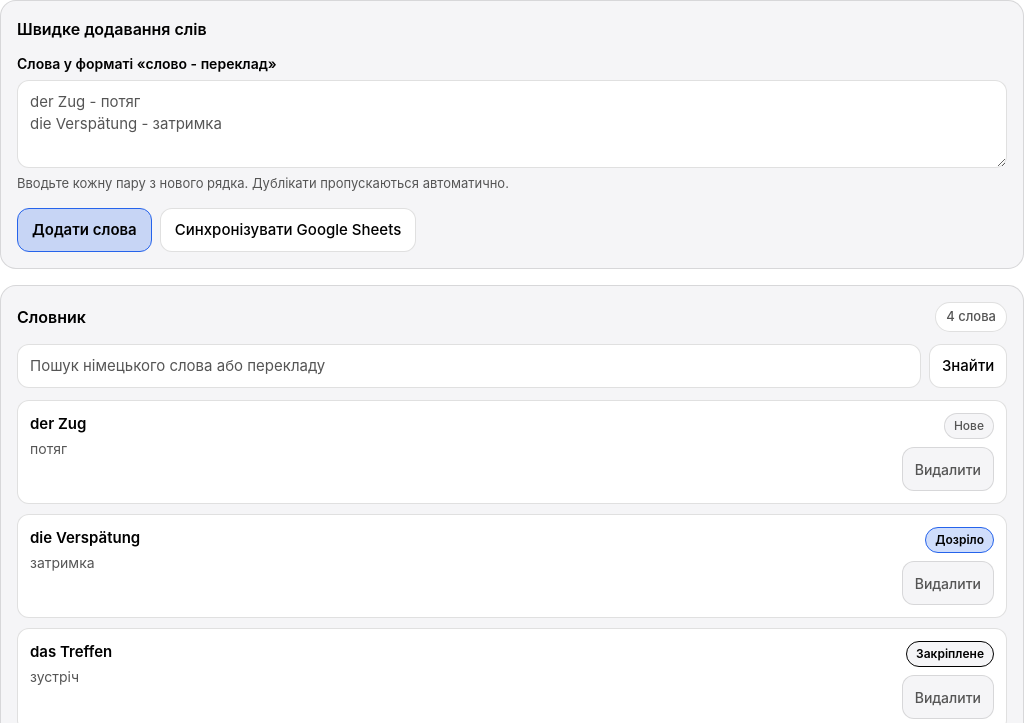
Test: DictionaryPage › handles Google Sheets sync success and 400/422/502/504 errors without corrupting local word list
The image size is (1024, 723).
Expected: the text "der Zug" is shown, top-left (30, 413), bottom-right (86, 436)
# 400 error
Click the button "Синхронізувати Google Sheets".
click(288, 230)  # box top-left (160, 208), bottom-right (416, 252)
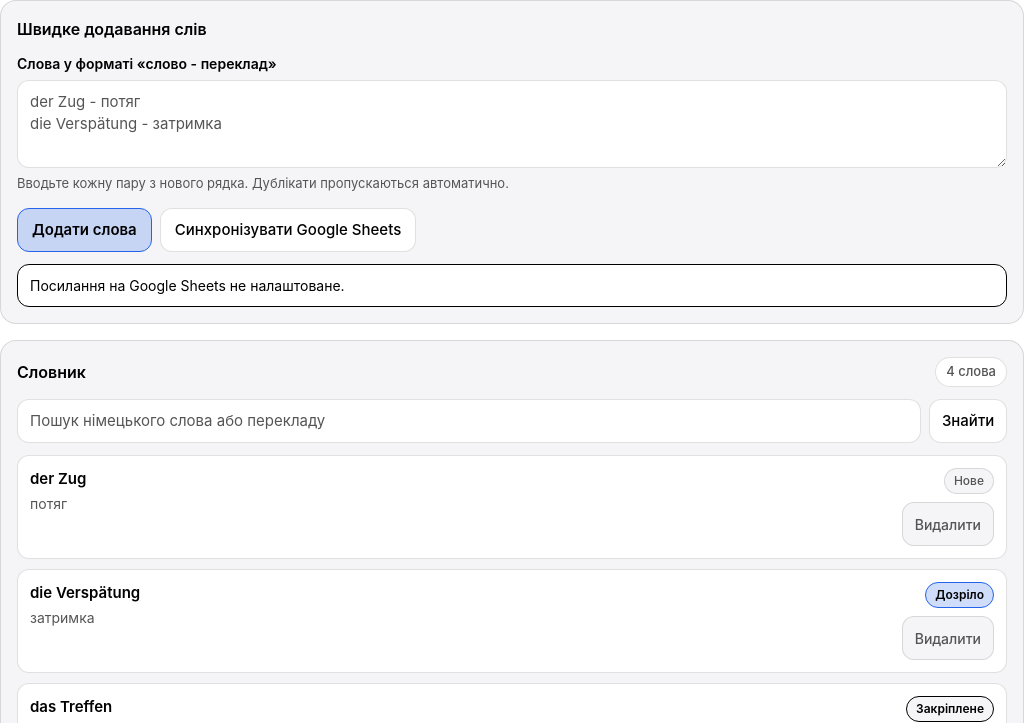
Expected: the text "der Zug" is shown, top-left (30, 468), bottom-right (86, 490)
Expected: the message reads "Посилання на Google Sheets не налаштоване.", top-left (30, 277), bottom-right (345, 294)
# 422 error
Click the button "Синхронізувати Google Sheets".
click(288, 230)  # box top-left (160, 208), bottom-right (416, 252)
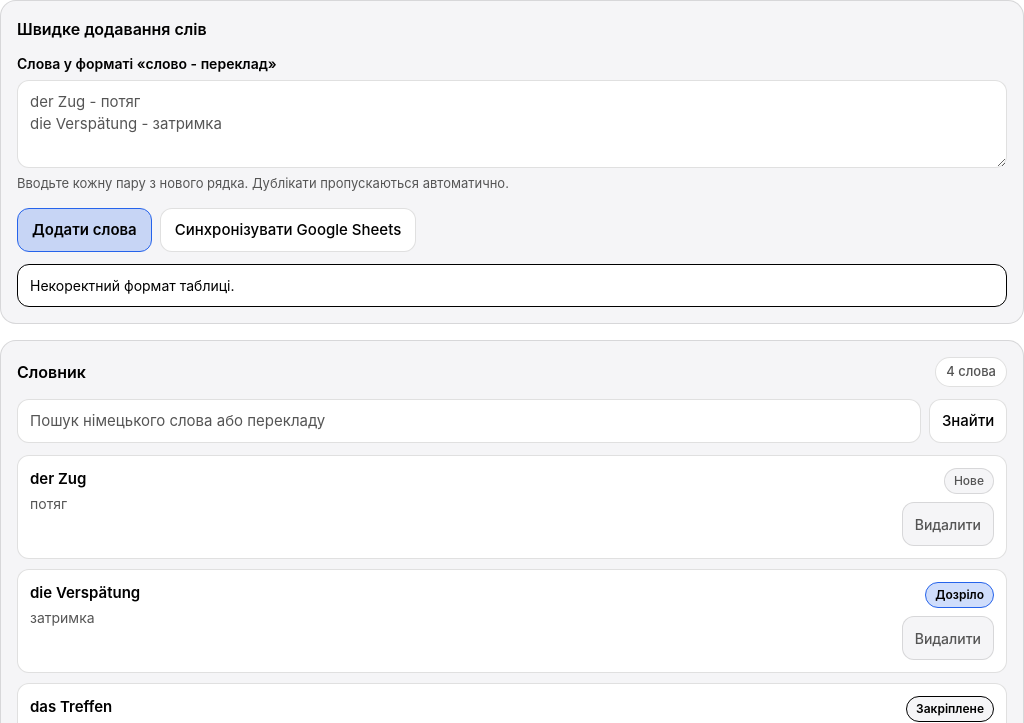
Expected: the text "der Zug" is shown, top-left (30, 468), bottom-right (86, 490)
Expected: the message reads "Некоректний формат таблиці.", top-left (30, 277), bottom-right (234, 294)
# 502 error
Click the button "Синхронізувати Google Sheets".
click(288, 230)  # box top-left (160, 208), bottom-right (416, 252)
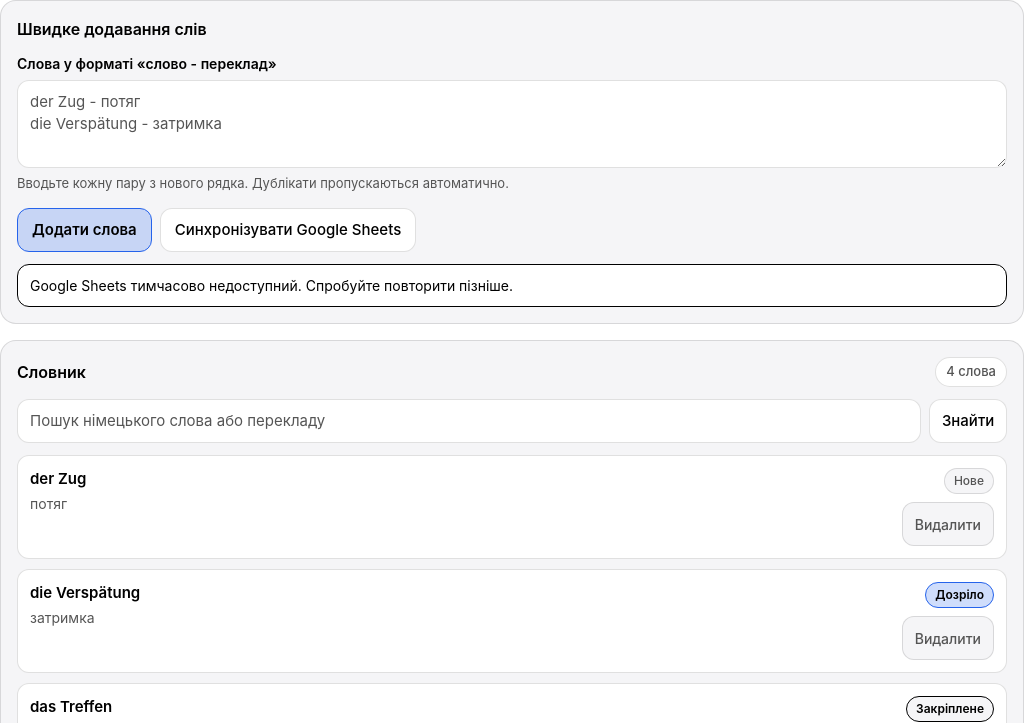
Expected: the text "der Zug" is shown, top-left (30, 468), bottom-right (86, 490)
Expected: the message shows "Google Sheets тимчасово недоступний", top-left (30, 277), bottom-right (513, 294)
# 504 error
Click the button "Синхронізувати Google Sheets".
click(288, 230)  # box top-left (160, 208), bottom-right (416, 252)
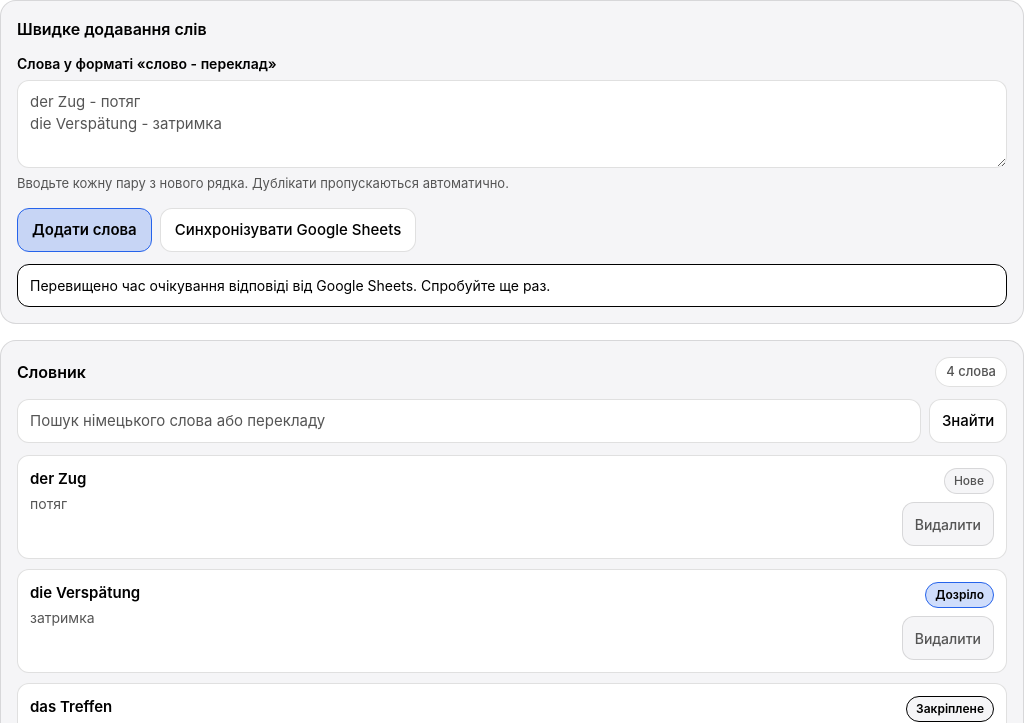
Expected: the text "der Zug" is shown, top-left (30, 468), bottom-right (86, 490)
Expected: the message shows "Перевищено час очікування відповіді від Google Sheets", top-left (30, 277), bottom-right (550, 294)
Click the button "Синхронізувати Google Sheets".
click(288, 230)  # box top-left (160, 208), bottom-right (416, 252)
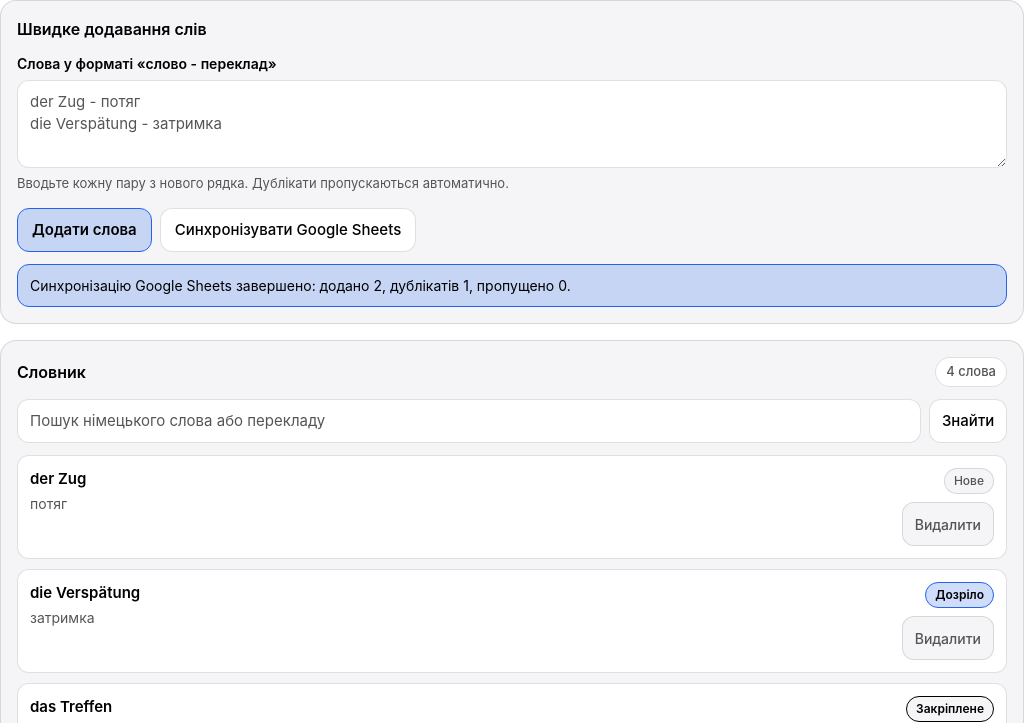
Expected: the text "Синхронізацію Google Sheets завершено: додано 2, дублікатів 1, пропущено 0." is shown, top-left (17, 264), bottom-right (1007, 307)
